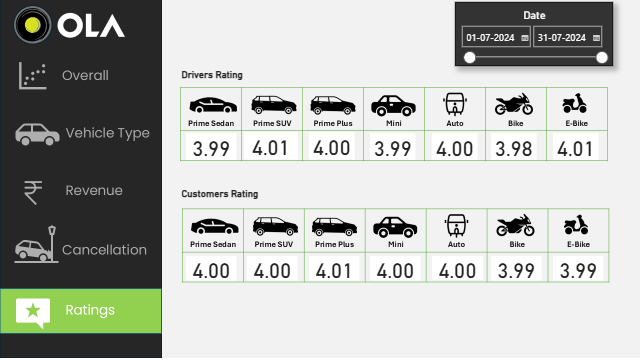

This screenshot's page, from the dashboard's own definition file:
{"tool":"powerbi","page":{"name":"Ratings","canvas":[1280,720],"ordinal":4},"visuals":[{"type":"actionButton","box":[0,229,322.6,70.6],"z":0},{"type":"actionButton","box":[0,344.2,322.6,70.6],"z":1000},{"type":"actionButton","box":[0,447.8,322.6,92.2],"z":2000},{"type":"actionButton","box":[0,580.3,322.6,92.2],"z":3000},{"type":"actionButton","box":[0,110.9,322.6,89.3],"z":4000},{"type":"card","fields":{"Values":["Avg(July.Driver_Ratings)"]},"box":[372.9,265.7,101.4,54.3],"z":4001},{"type":"card","fields":{"Values":["Avg(July.Driver_Ratings)"]},"box":[488.8,263.8,107.5,55],"z":4002},{"type":"card","fields":{"Values":["Avg(July.Driver_Ratings)"]},"box":[618.8,263.8,91.2,55],"z":4003},{"type":"card","fields":{"Values":["Avg(July.Driver_Ratings)"]},"box":[740,265.7,91.4,54.3],"z":4004},{"type":"card","fields":{"Values":["Avg(July.Driver_Ratings)"]},"box":[864.3,265.7,91.4,54.3],"z":4005},{"type":"card","fields":{"Values":["Avg(July.Driver_Ratings)"]},"box":[982.9,265.7,91.4,54.3],"z":4006},{"type":"card","fields":{"Values":["Avg(July.Driver_Ratings)"]},"box":[1105.7,265.7,91.4,54.3],"z":4007},{"type":"card","fields":{"Values":["Avg(July.Customer_Rating)"]},"box":[372.9,512.9,101.4,49],"z":4008},{"type":"card","fields":{"Values":["Avg(July.Customer_Rating)"]},"box":[494.3,512.9,101.4,48.6],"z":4009},{"type":"card","fields":{"Values":["Avg(July.Customer_Rating)"]},"box":[618.6,512.9,101.4,48.6],"z":4010},{"type":"card","fields":{"Values":["Avg(July.Customer_Rating)"]},"box":[740,512.9,101.4,48.6],"z":4011},{"type":"card","fields":{"Values":["Avg(July.Customer_Rating)"]},"box":[864,512,102,48],"z":4012},{"type":"card","fields":{"Values":["Avg(July.Customer_Rating)"]},"box":[982.9,512.9,101.4,48.6],"z":4013},{"type":"card","fields":{"Values":["Avg(July.Customer_Rating)"]},"box":[1105.7,512.9,101.4,48.6],"z":4014},{"type":"textbox","box":[358.6,132.9,187.1,44.3],"z":4015},{"type":"textbox","box":[358,370,170,44],"z":4016},{"type":"slicer","title":"Date","fields":{"Values":["July.Date"]},"box":[910,4,316,128],"z":4017}]}

Visuals, with their boxes on the page's 1280x720 design canvas (x1, y1, x2, y2). These are canvas units, not pixel positions in the 640x360 screenshot, which may show the page scaled, cropped or inside an application window:
actionButton: (0, 229, 323, 300)
actionButton: (0, 344, 323, 415)
actionButton: (0, 448, 323, 540)
actionButton: (0, 580, 323, 672)
actionButton: (0, 111, 323, 200)
card - Avg(July.Driver_Ratings): (373, 266, 474, 320)
card - Avg(July.Driver_Ratings): (489, 264, 596, 319)
card - Avg(July.Driver_Ratings): (619, 264, 710, 319)
card - Avg(July.Driver_Ratings): (740, 266, 831, 320)
card - Avg(July.Driver_Ratings): (864, 266, 956, 320)
card - Avg(July.Driver_Ratings): (983, 266, 1074, 320)
card - Avg(July.Driver_Ratings): (1106, 266, 1197, 320)
card - Avg(July.Customer_Rating): (373, 513, 474, 562)
card - Avg(July.Customer_Rating): (494, 513, 596, 562)
card - Avg(July.Customer_Rating): (619, 513, 720, 562)
card - Avg(July.Customer_Rating): (740, 513, 841, 562)
card - Avg(July.Customer_Rating): (864, 512, 966, 560)
card - Avg(July.Customer_Rating): (983, 513, 1084, 562)
card - Avg(July.Customer_Rating): (1106, 513, 1207, 562)
textbox: (359, 133, 546, 177)
textbox: (358, 370, 528, 414)
"Date" slicer: (910, 4, 1226, 132)
